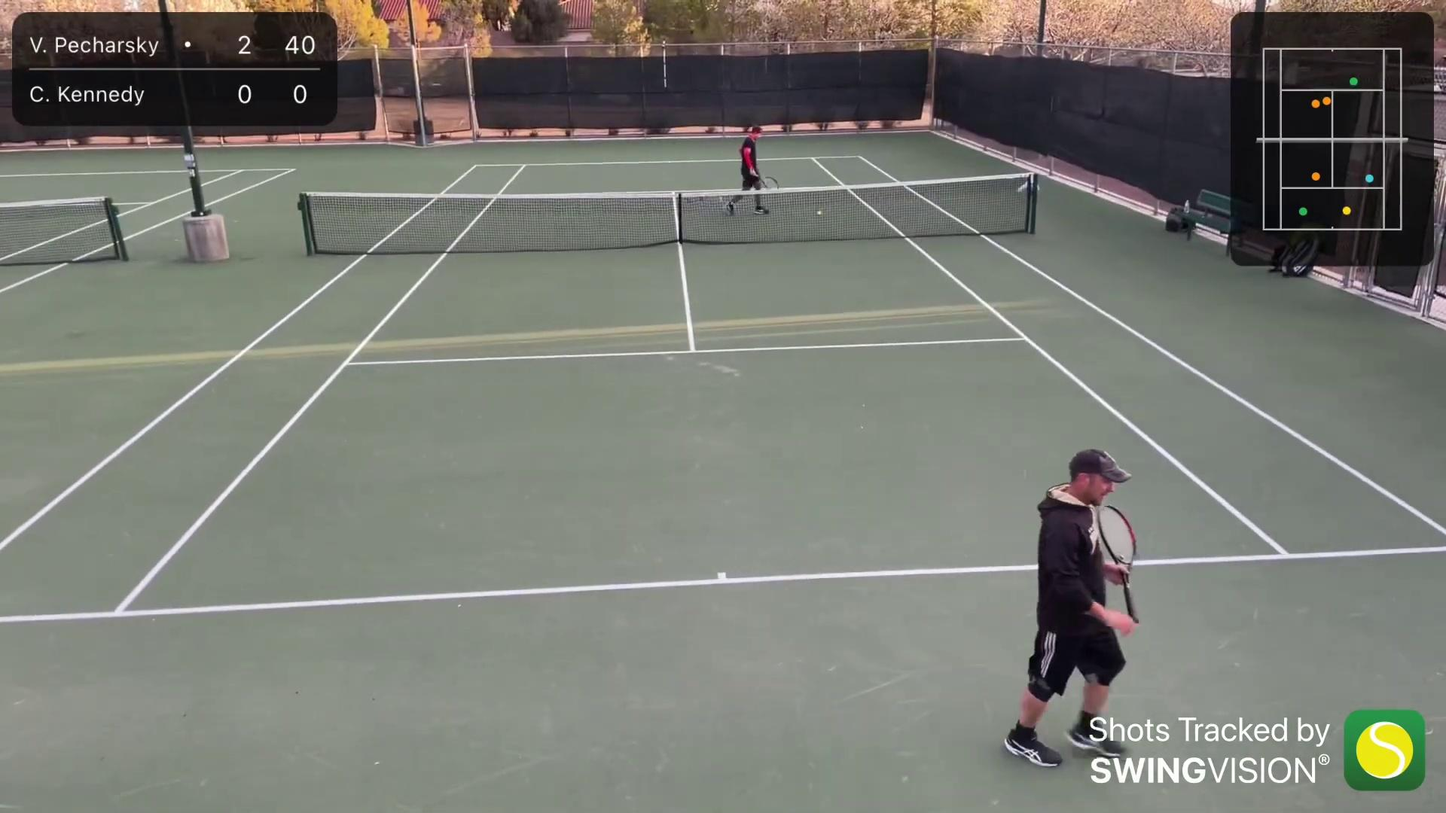ball: (816, 209, 823, 216)
